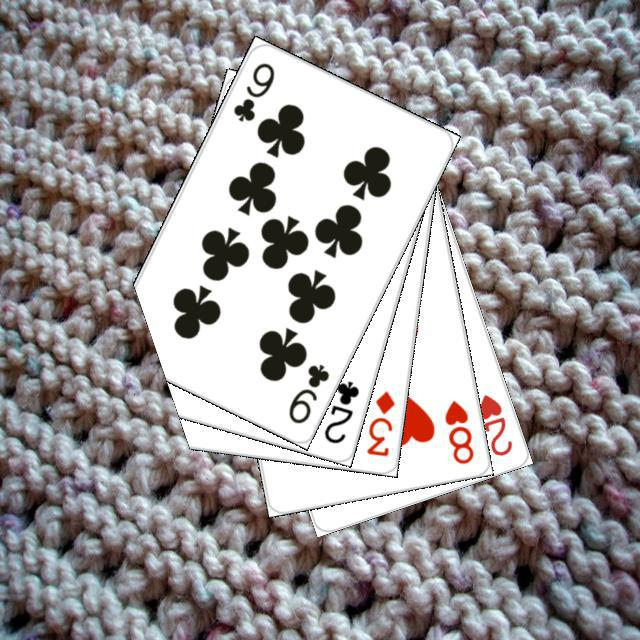2c: (319, 376, 361, 445)
2h: (473, 389, 514, 458)
3d: (361, 386, 397, 458)
8h: (439, 395, 476, 466)
9c: (228, 57, 277, 123), (283, 359, 331, 426)
